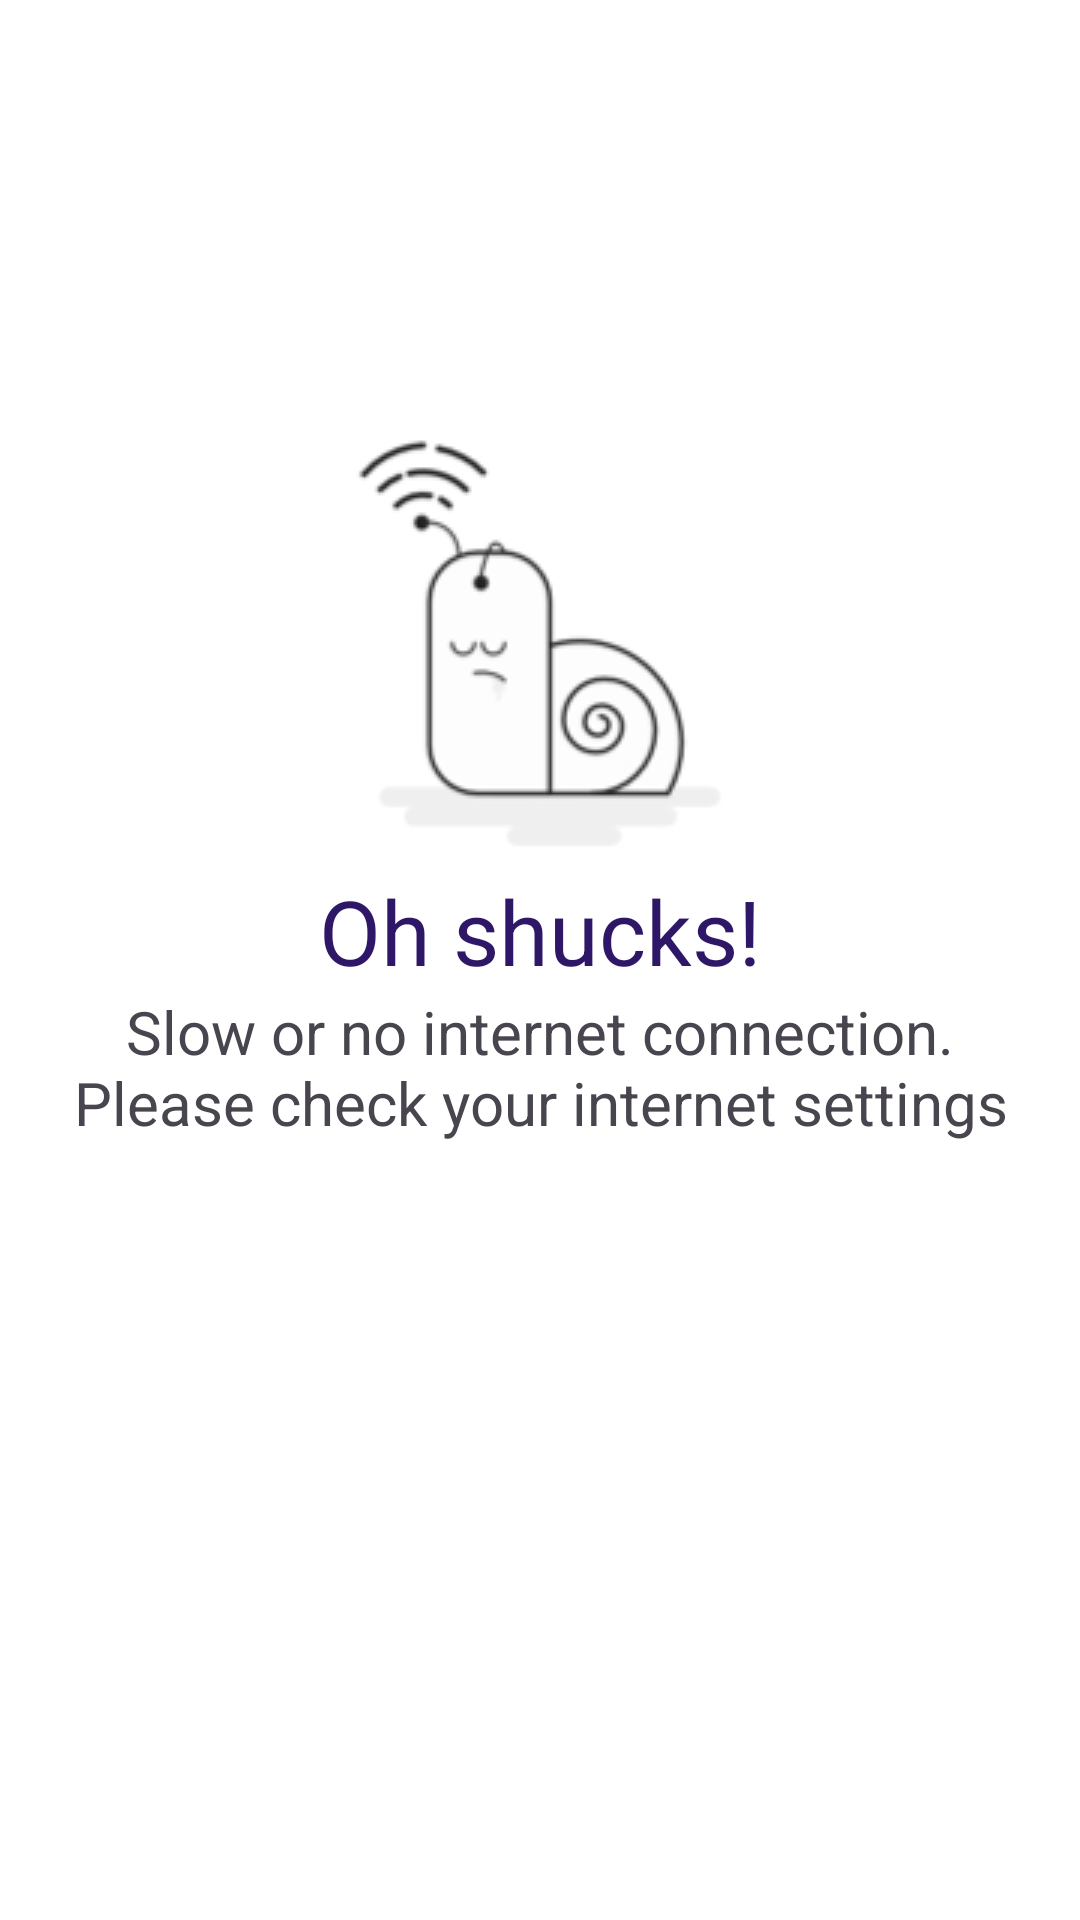

Named icons in this screenshot (1080px x 1920px) and their bounding boxes, (x1, y1, x2, y2):
network error: (359, 440, 685, 799)
